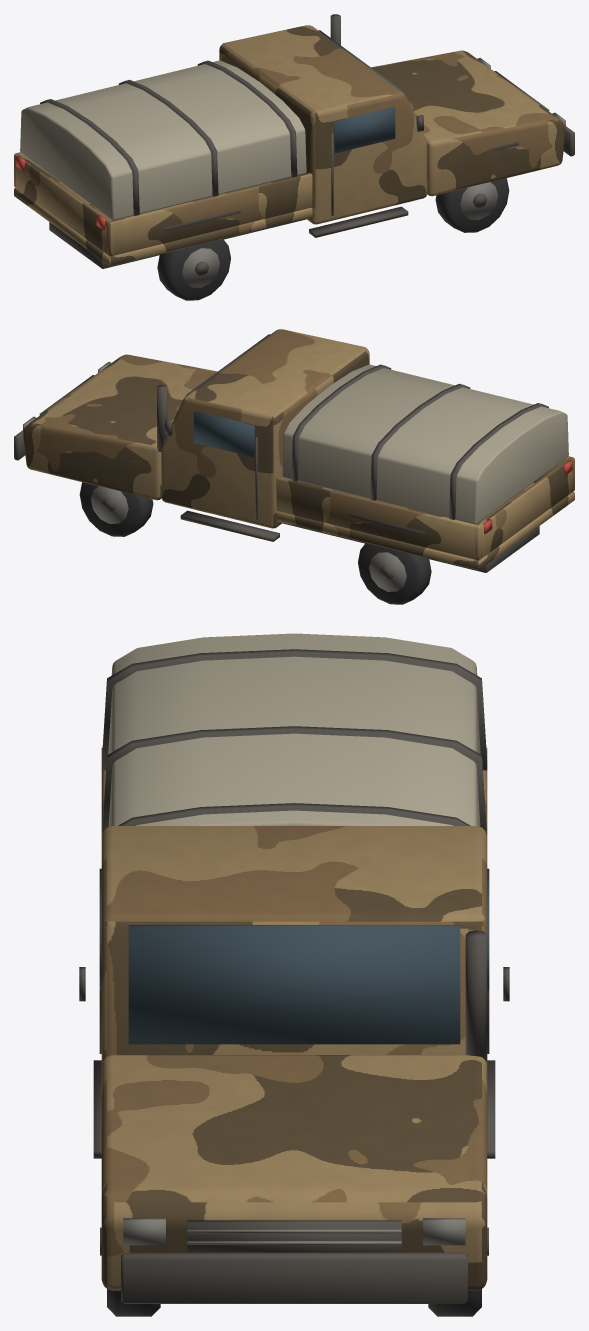
File: convoy_pickup_tent.glb
The picture shows the model from 3 angles, top to bottom: view 1: azimuth 30°, elevation 25°; view 2: azimuth 150°, elevation 25°; view 3: azimuth 270°, elevation 25°; orthographic projection. The views are drawn at different scales.
Visible parts, largest first — view 1: convoy_pickup_tent, tent, wheel_1r, wheel_fr; view 2: convoy_pickup_tent, tent, wheel_1l, wheel_fl; view 3: convoy_pickup_tent, tent, wheel_fl, wheel_fr.
Part boxes in pixels (x1=…): convoy_pickup_tent: x1=14, y1=14, x2=574, y2=268; tent: x1=20, y1=60, x2=306, y2=220; wheel_1r: x1=157, y1=239, x2=230, y2=300; wheel_fr: x1=435, y1=178, x2=509, y2=232; convoy_pickup_tent: x1=14, y1=329, x2=574, y2=572; tent: x1=282, y1=364, x2=568, y2=524; wheel_1l: x1=358, y1=543, x2=431, y2=604; wheel_fl: x1=79, y1=482, x2=153, y2=536; convoy_pickup_tent: x1=79, y1=747, x2=509, y2=1303; tent: x1=101, y1=633, x2=487, y2=834; wheel_fl: x1=428, y1=1227, x2=488, y2=1316; wheel_fr: x1=100, y1=1227, x2=160, y2=1316.
Bounding box in the file's own units: 1.02 × 0.335 × 0.402.
Materials: 7 (1 with a texture image).
